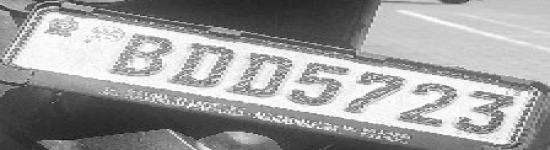2: (401, 82, 460, 129)
3: (456, 90, 518, 136)
5: (290, 60, 352, 109)
7: (350, 66, 406, 119)
B: (102, 29, 176, 77)
D: (170, 37, 238, 88), (230, 51, 295, 98)
